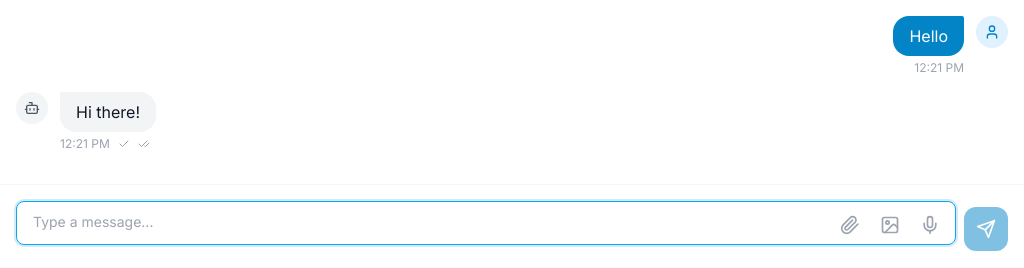
Test: ChatWindow › enables send button when message is entered
This screenshot has width=1024, height=268.
Type "Test" into the text box with placeholder "Type a message...". click: (486, 223)
box: [16,201,956,245]
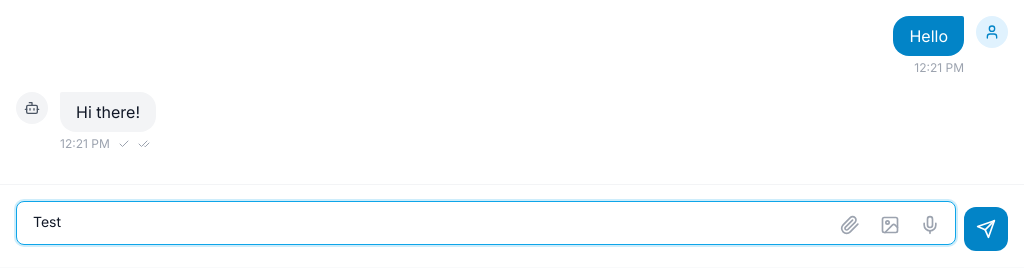
Result: the button named "send message" is enabled at [964,207,1008,251]
